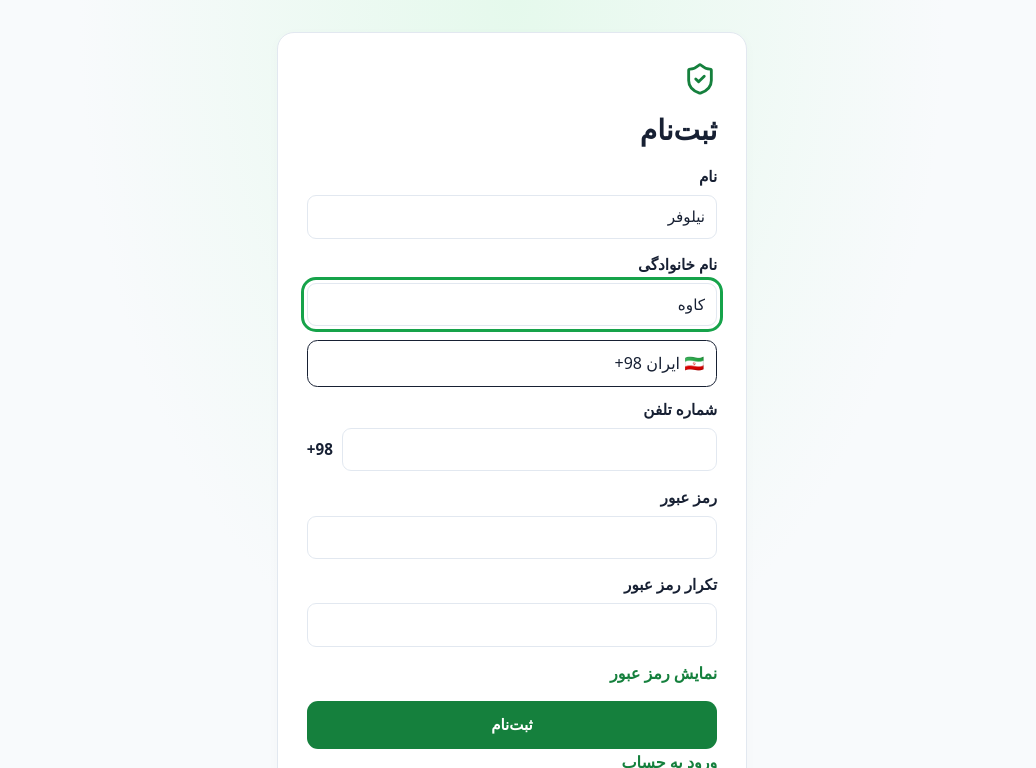
Test: registration validates confirmation and posts names and credentials
Earlier steps of the test are not shown.
Step 1. Type "09123456789" into the field labelled "شماره تلفن +98" → (529, 450), box 342,428 -> 717,471
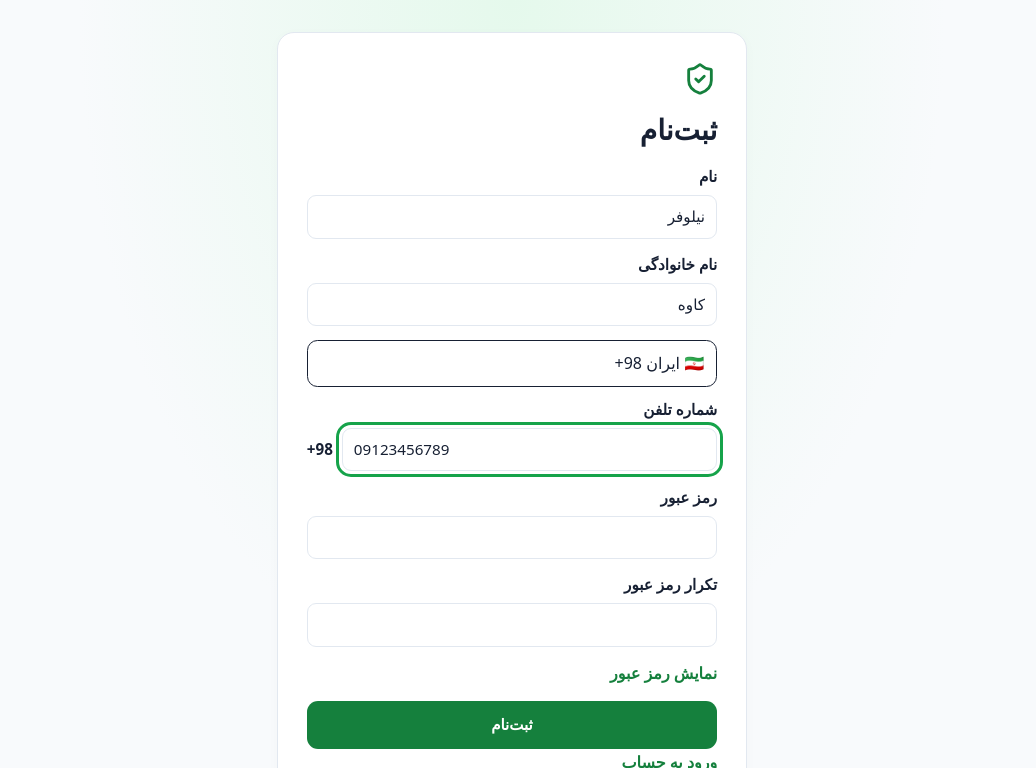
Step 2. Type "test-password" into the password field labelled "رمز عبور" → (512, 537), box 307,516 -> 717,559
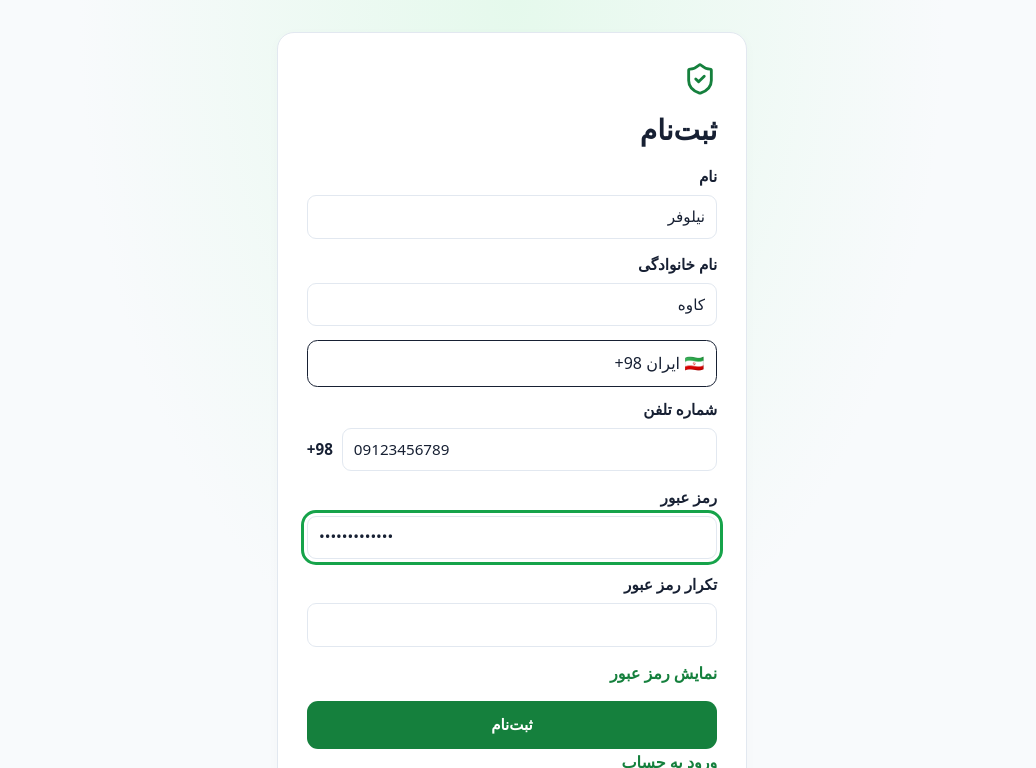
Step 3. Type "different" into the password field labelled "تکرار رمز عبور" → (512, 625), box 307,603 -> 717,647
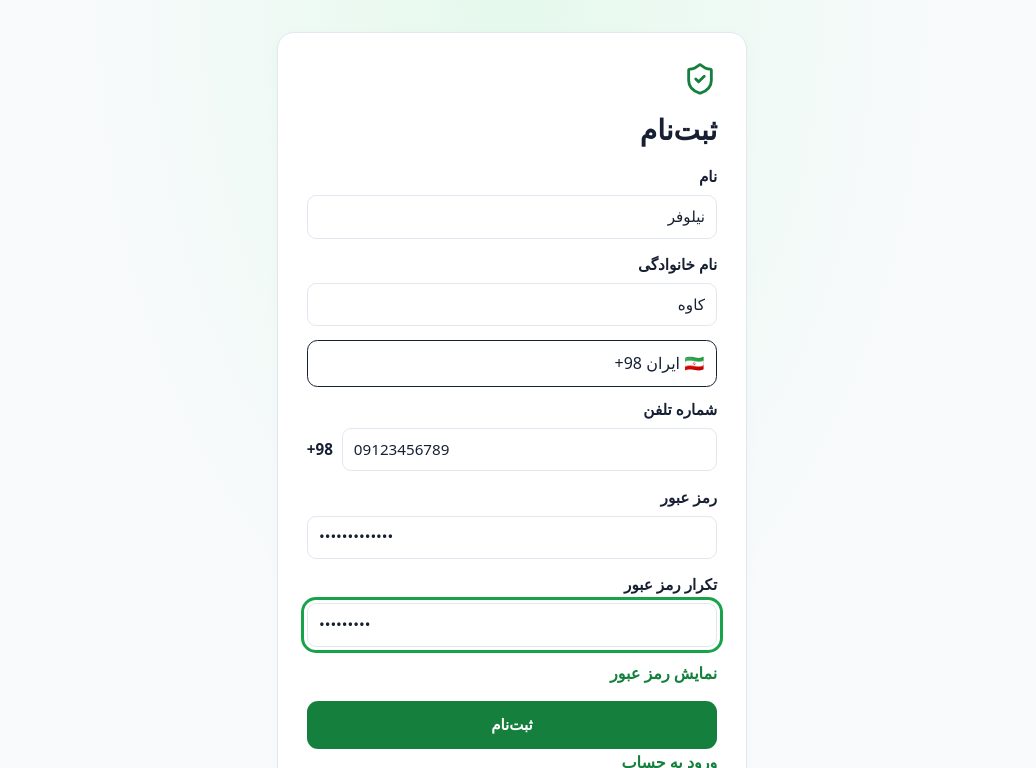
Step 4. Click the button "ثبت‌نام" → click(512, 725), box 307,701 -> 717,749
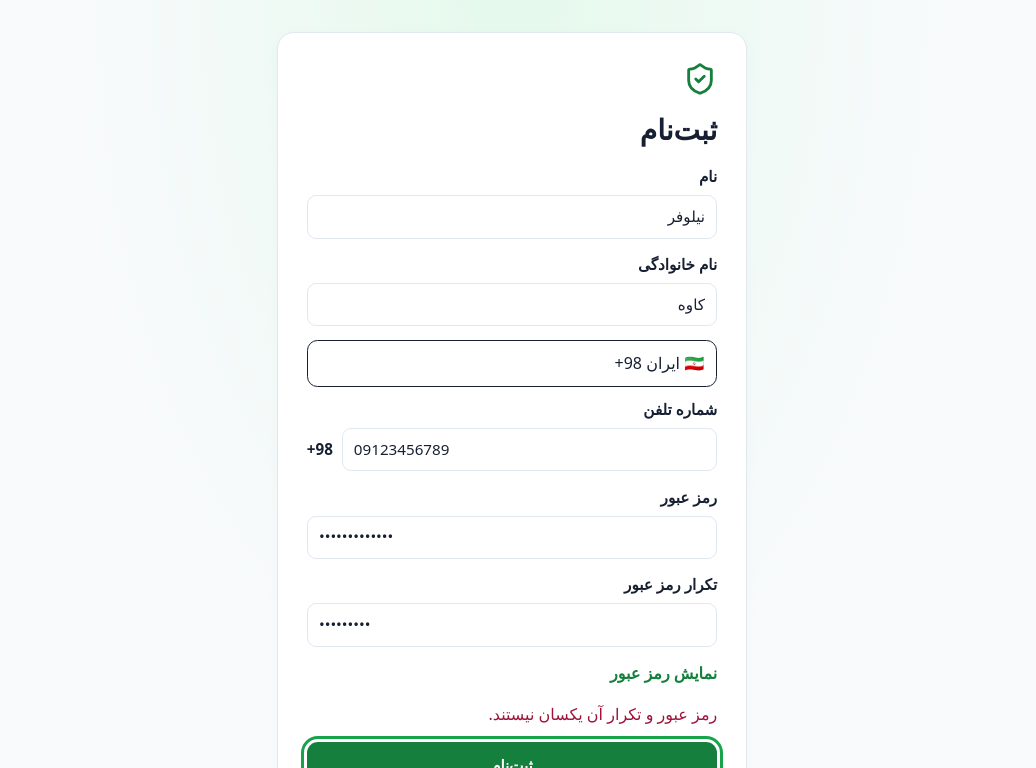
expect the message shows "یکسان نیستند": met, box 488,703 -> 717,725
Step 5. Type "test-password" into the password field labelled "تکرار رمز عبور" → (512, 625), box 307,603 -> 717,647
(page scrolled)
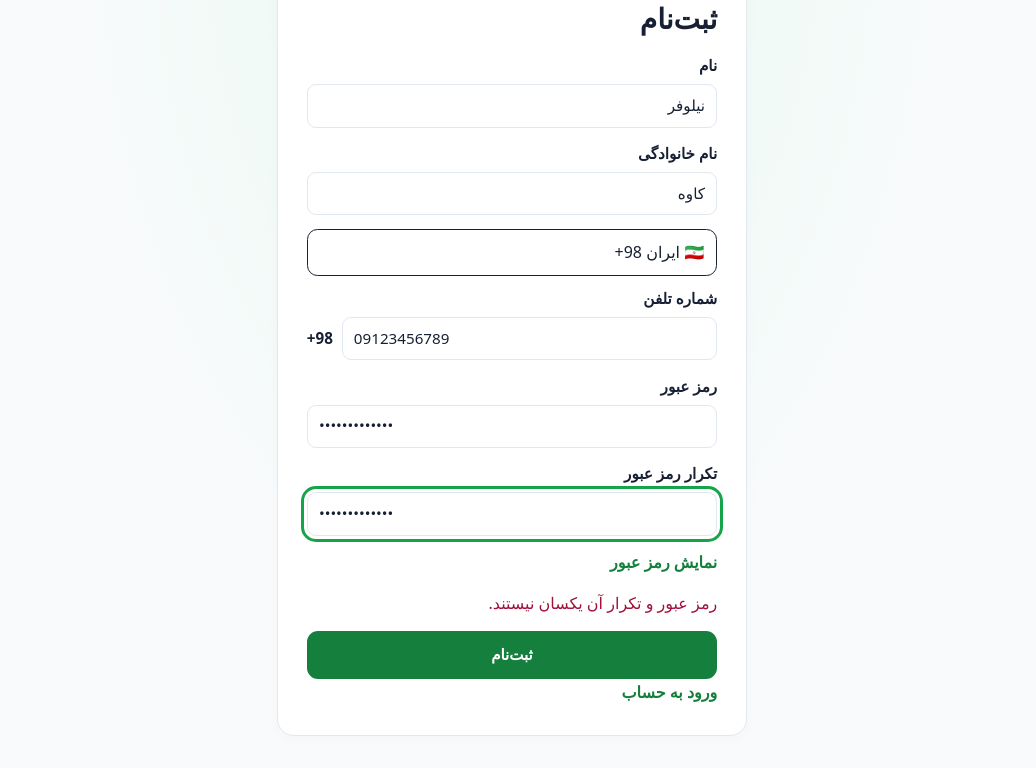
Step 6. Click the button "ثبت‌نام" → click(512, 655), box 307,631 -> 717,679
(page scrolled)
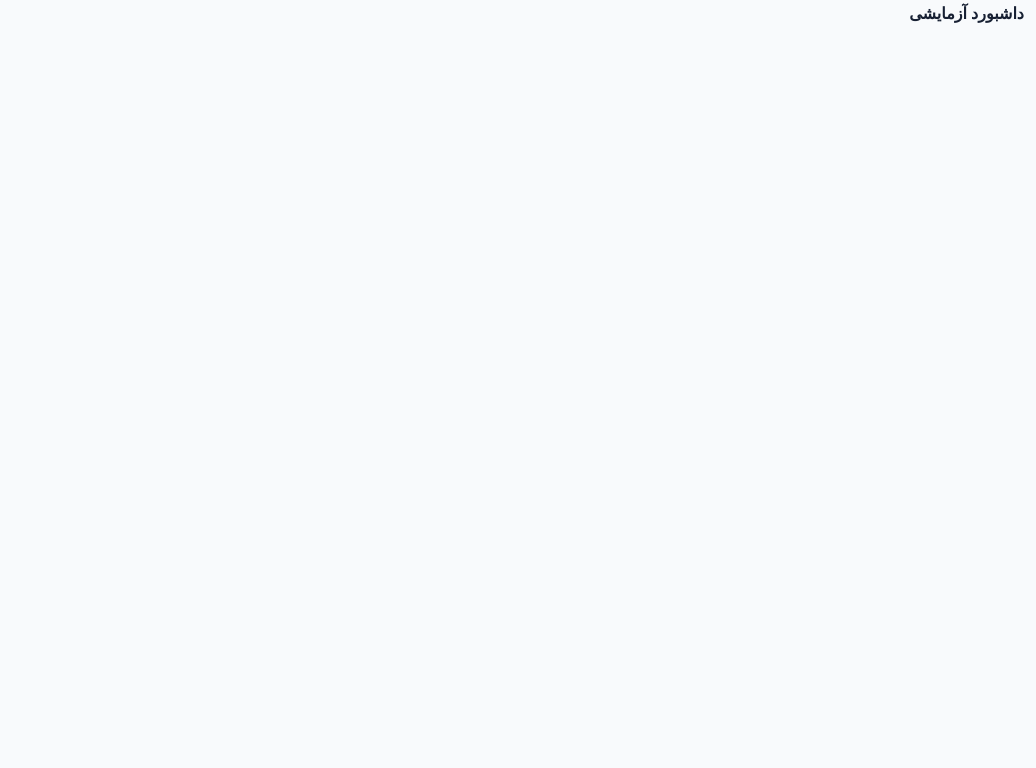
expect the heading "داشبورد آزمایشی" is shown: met, box 909,2 -> 1024,24
